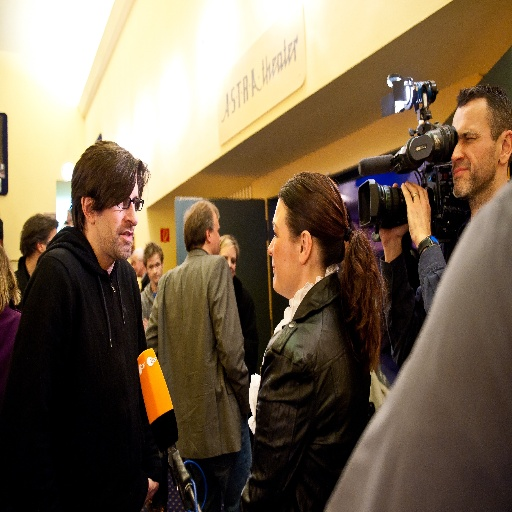hand: (401, 175, 439, 244), (376, 182, 409, 245), (142, 477, 159, 504), (141, 316, 147, 330)
